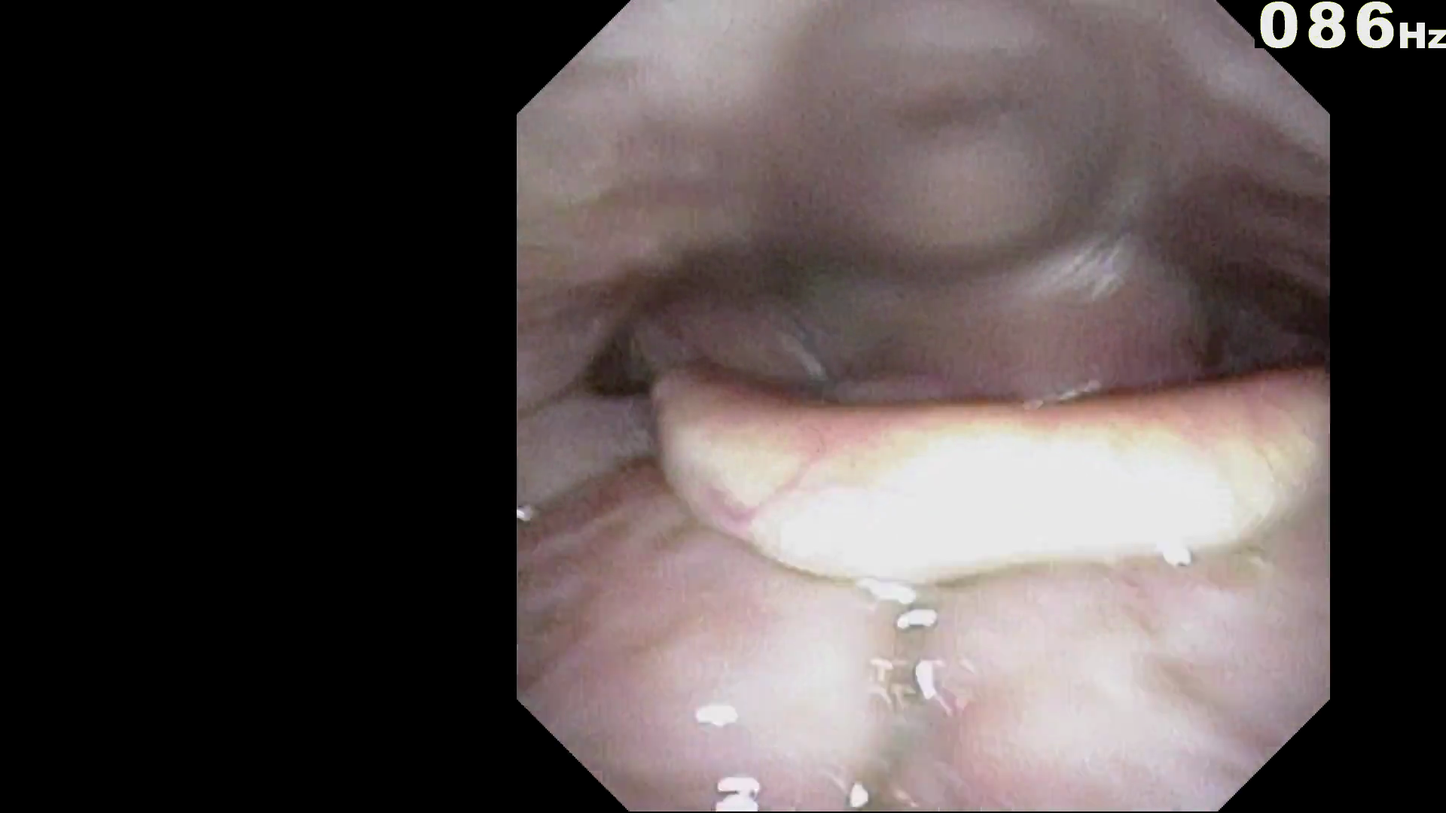epiglottis: (651, 430, 1266, 654)
trachea: (936, 494, 1082, 608)
